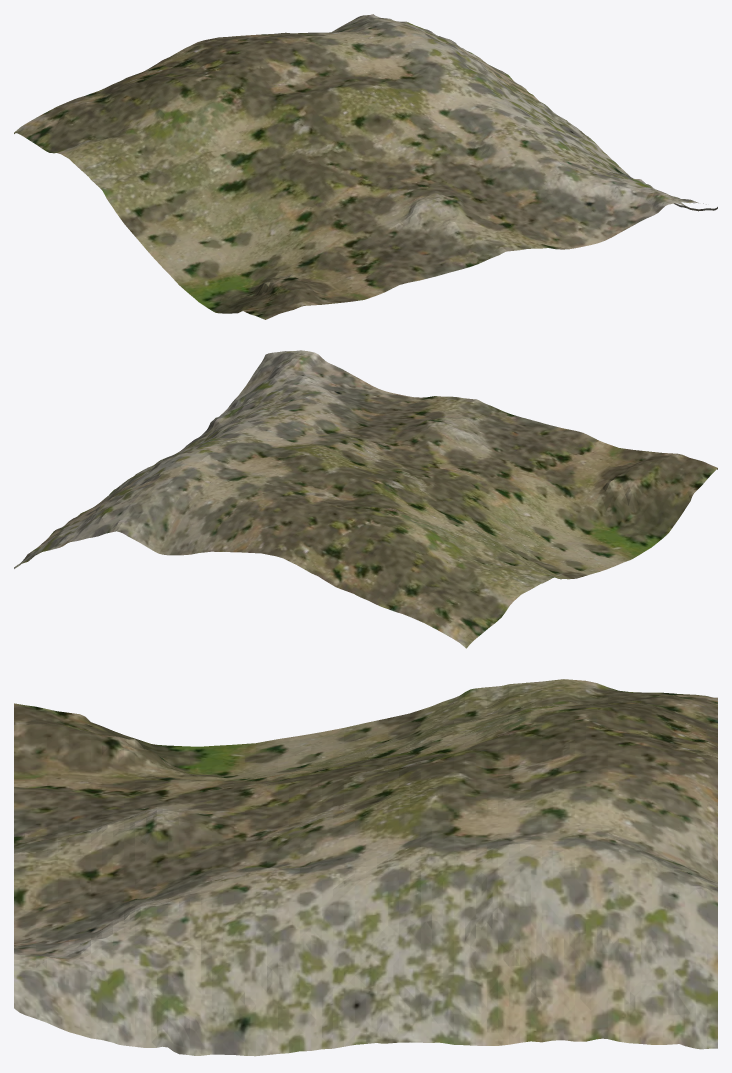
3 views of the same model, one above another, from view 1: azimuth 30°, elevation 25°; view 2: azimuth 150°, elevation 25°; view 3: azimuth 270°, elevation 25° (orthographic). The views are drawn at different scales.
Bounding box in the file's own units: 250 × 51.99 × 241.
1 material, 1 textured.
